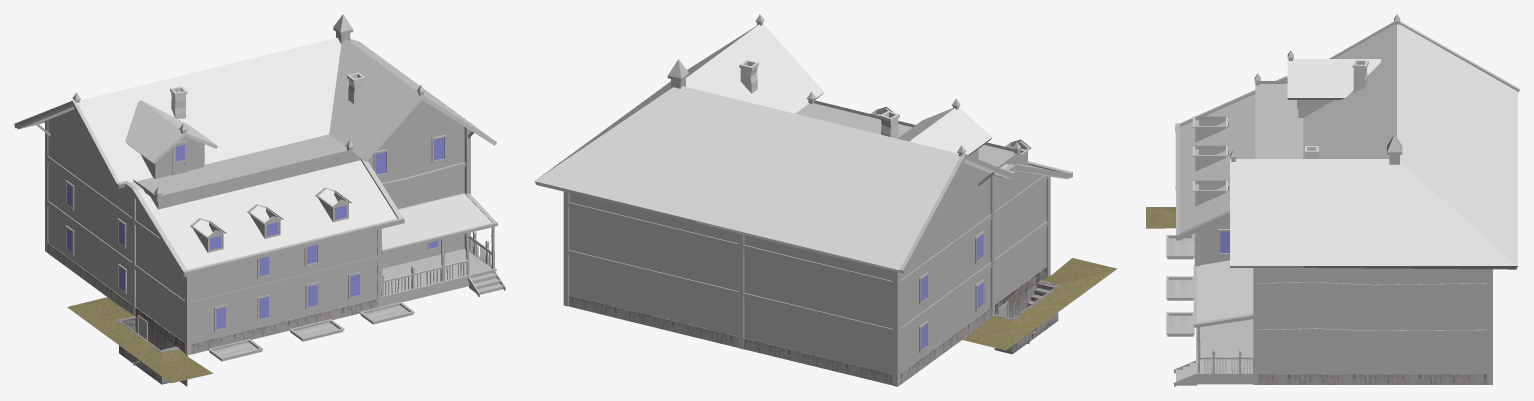
The model's file is house sketch.fbx.
3 views of the same model, side by side, from view 1: azimuth 30°, elevation 25°; view 2: azimuth 150°, elevation 25°; view 3: azimuth 270°, elevation 25° (orthographic). The views are drawn at different scales.
Parts seen in each view (by area): view 1: roof, main building, dets, stair to basement, roof.001, Cube.008, exstar thing roof, glass.001, Cube, glass.002, Window.003, smoll pillar (+4 smaller); view 2: main building, roof, dets, stair to basement, exstar thing roof, glass.002, glass.001; view 3: roof, main building, dets, Cube.008, roof.001, exstar thing roof, Cube, Window.003, smoll pillar, stair to basement, Cube.006, exstra thing.
Part boxes in pixels (<box>): roof: <box>17,37,496,269</box>; main building: <box>47,100,464,354</box>; dets: <box>14,14,497,355</box>; stair to basement: <box>67,297,213,386</box>; roof.001: <box>382,193,492,249</box>; Cube.008: <box>381,248,496,306</box>; exstar thing roof: <box>125,100,217,163</box>; glass.001: <box>67,138,444,329</box>; Cube: <box>208,302,414,361</box>; glass.002: <box>65,135,446,331</box>; Window.003: <box>190,187,351,252</box>; smoll pillar: <box>381,231,491,296</box>; main building: <box>569,103,1046,385</box>; roof: <box>534,23,1068,273</box>; dets: <box>563,14,1072,386</box>; stair to basement: <box>962,258,1117,354</box>; exstar thing roof: <box>898,108,992,155</box>; glass.002: <box>919,231,984,352</box>; glass.001: <box>921,235,983,349</box>; roof: <box>1179,24,1517,269</box>; main building: <box>1200,84,1487,384</box>; dets: <box>1175,14,1519,384</box>; Cube.008: <box>1196,319,1253,384</box>; roof.001: <box>1197,260,1253,322</box>; exstar thing roof: <box>1287,59,1380,99</box>; Cube: <box>1166,235,1194,336</box>; Window.003: <box>1192,116,1228,206</box>; smoll pillar: <box>1199,349,1253,374</box>; stair to basement: <box>1146,207,1175,228</box>; Cube.006: <box>1173,360,1197,386</box>; exstra thing: <box>1298,100,1333,117</box>.
Size of what is drawn, in the model's own units: 2252 by 1430 by 1901.
